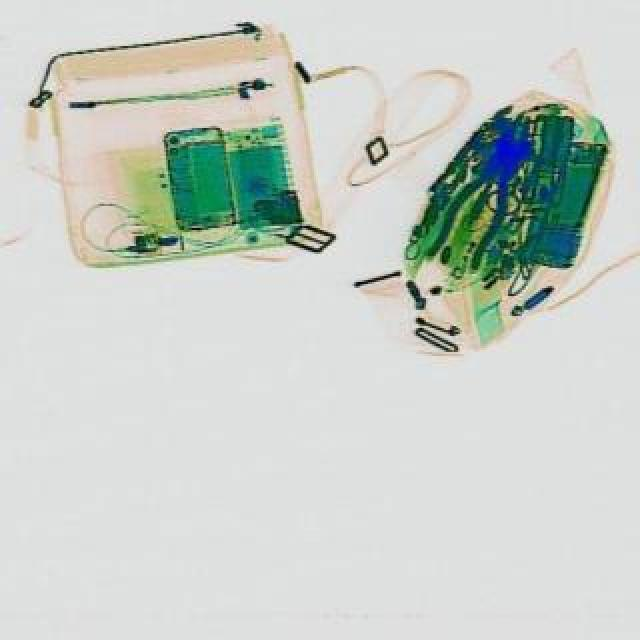wrench: (426, 104, 558, 280)
